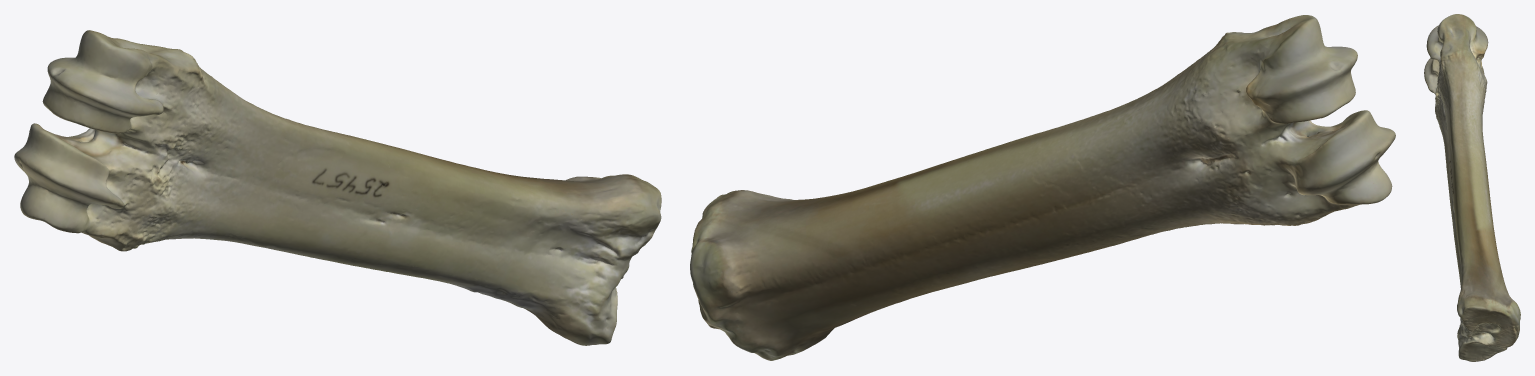
3 views of the same model, side by side, from view 1: azimuth 30°, elevation 25°; view 2: azimuth 150°, elevation 25°; view 3: azimuth 270°, elevation 25° (orthographic). The views are drawn at different scales.
Parts seen in each view (by area): view 1: Node; view 2: Node; view 3: Node.
Boxes of the visible parts, x1,y1,x2,y2 form: Node: (14,30,661,345); Node: (690,15,1395,360); Node: (1424,14,1520,361).
Size of the model in its own units: 105 by 68.8 by 27.01.
Materials: 1 (1 with a texture image).
